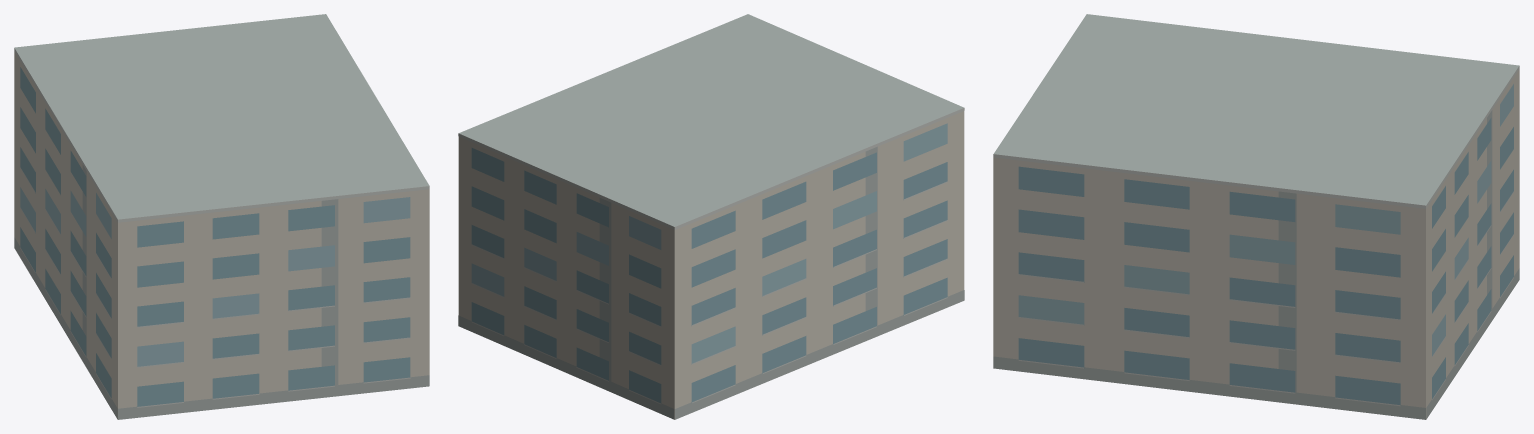
File: residential-877dbe9a-284c-4c24-9b5e-4852a3c0bb49.glb
3 views of the same model, side by side, from view 1: azimuth 30°, elevation 25°; view 2: azimuth 150°, elevation 25°; view 3: azimuth 270°, elevation 25° (orthographic). The views are drawn at different scales.
Visible parts, largest first — view 1: residential-877dbe9a-284c-4c24-9b5e-4852a3c0bb49.tmp; view 2: residential-877dbe9a-284c-4c24-9b5e-4852a3c0bb49.tmp; view 3: residential-877dbe9a-284c-4c24-9b5e-4852a3c0bb49.tmp.
Part boxes in pixels (x1,y1,x2,y2): residential-877dbe9a-284c-4c24-9b5e-4852a3c0bb49.tmp: [14, 14, 429, 419]; residential-877dbe9a-284c-4c24-9b5e-4852a3c0bb49.tmp: [458, 14, 964, 419]; residential-877dbe9a-284c-4c24-9b5e-4852a3c0bb49.tmp: [993, 14, 1519, 419].
Size of the model in its own units: 29.24 by 15.25 by 33.93.
